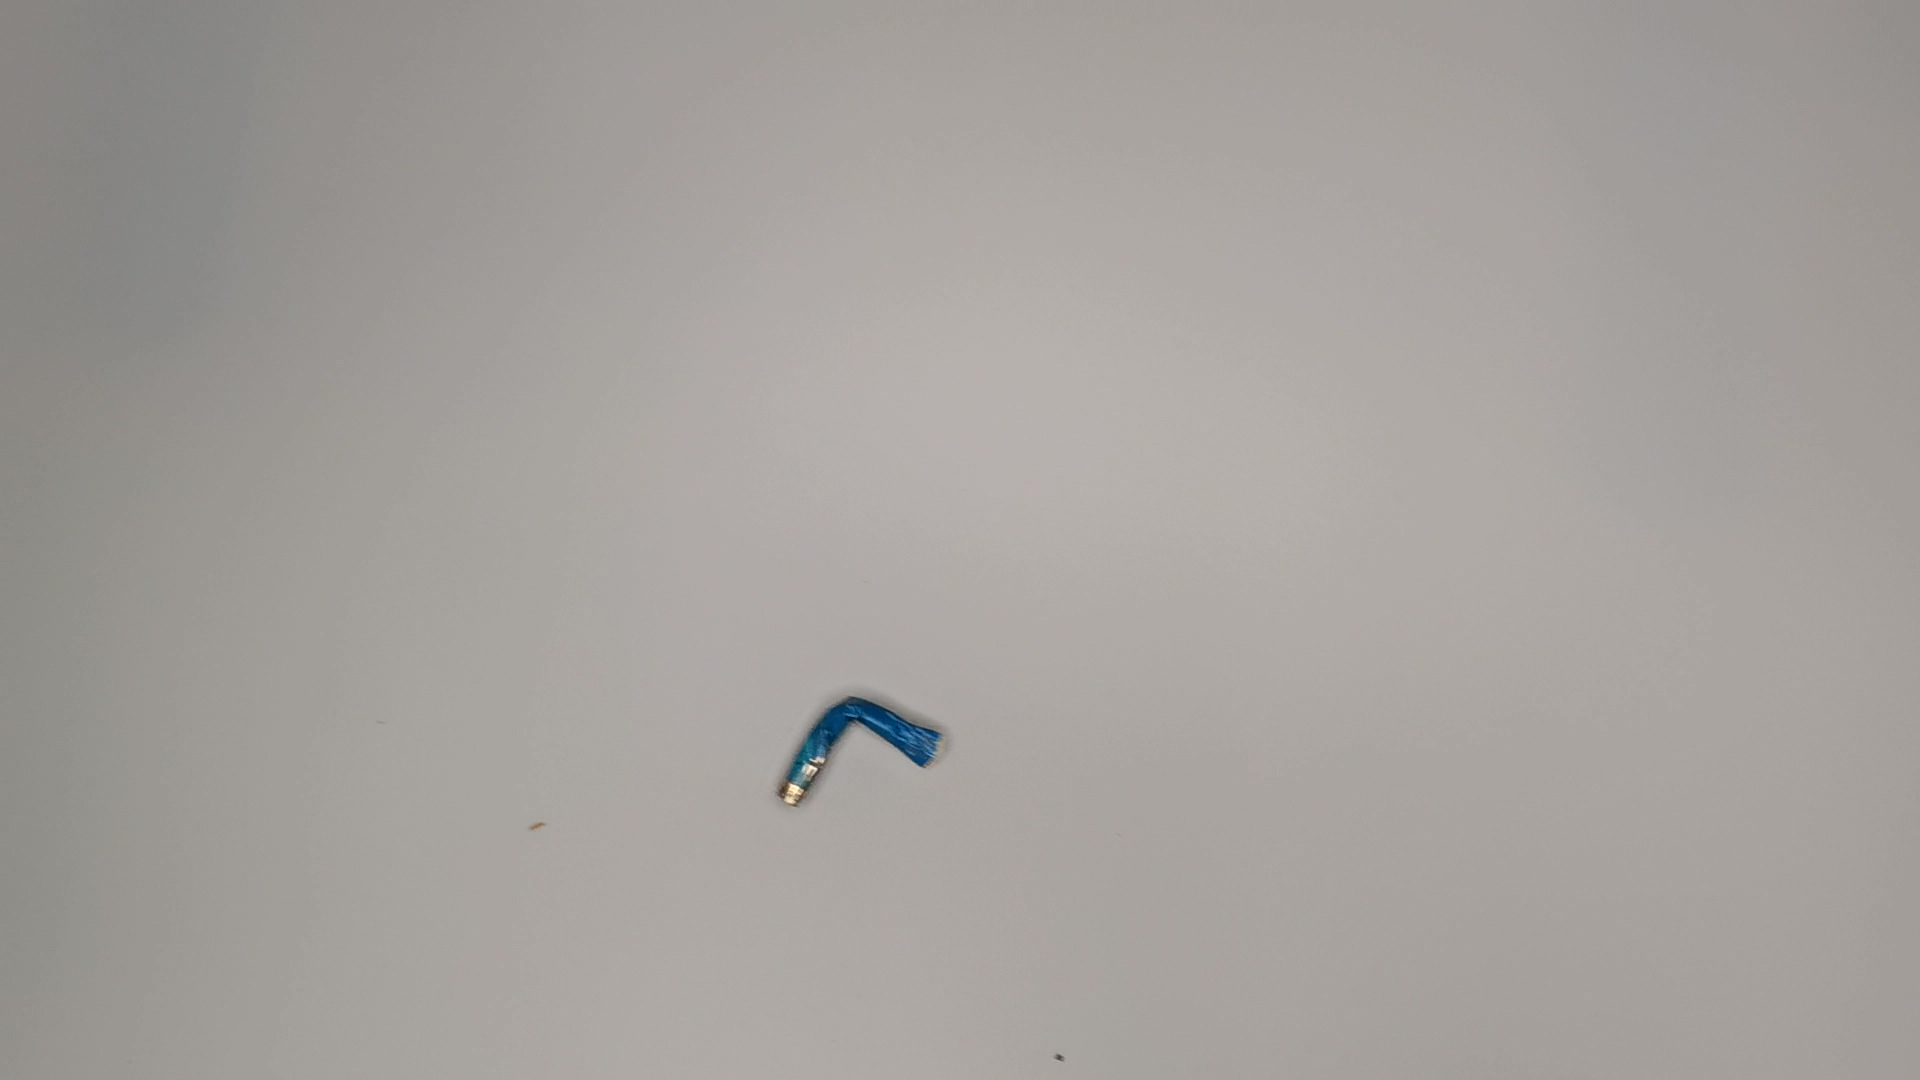cigarette: (785, 682, 959, 837)
